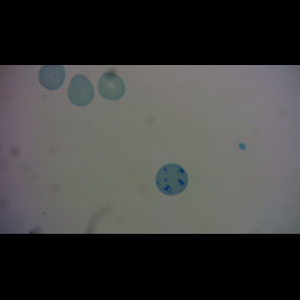aggregate reticulocyte: (155, 162, 189, 196)
erythrocyte: (67, 74, 94, 107), (97, 72, 127, 101), (38, 64, 66, 91)
